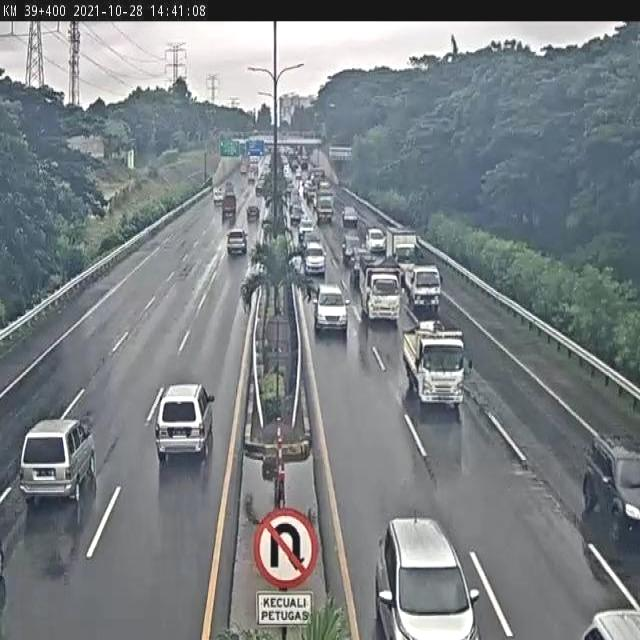Car: (375, 516, 481, 639), (18, 417, 98, 511), (582, 434, 640, 534), (153, 382, 215, 462), (358, 262, 401, 322), (312, 283, 350, 334), (579, 608, 640, 639), (406, 265, 442, 316), (303, 243, 325, 276), (340, 233, 361, 267), (364, 225, 386, 255), (226, 228, 248, 256), (298, 217, 315, 244), (289, 253, 304, 277), (342, 207, 358, 228), (289, 203, 302, 225), (255, 177, 268, 198), (247, 205, 260, 222), (213, 187, 224, 206), (224, 180, 234, 194), (240, 161, 247, 175)
Truck: (317, 194, 336, 224)
